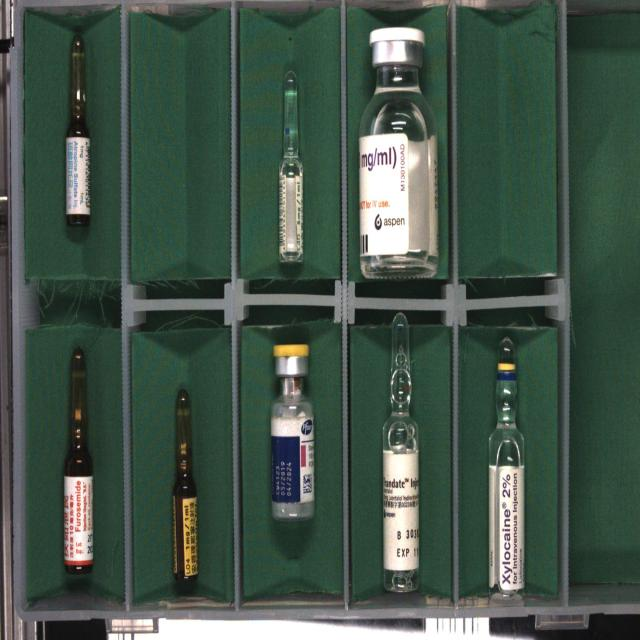Vials: (359, 27, 438, 280), (271, 343, 314, 520)
